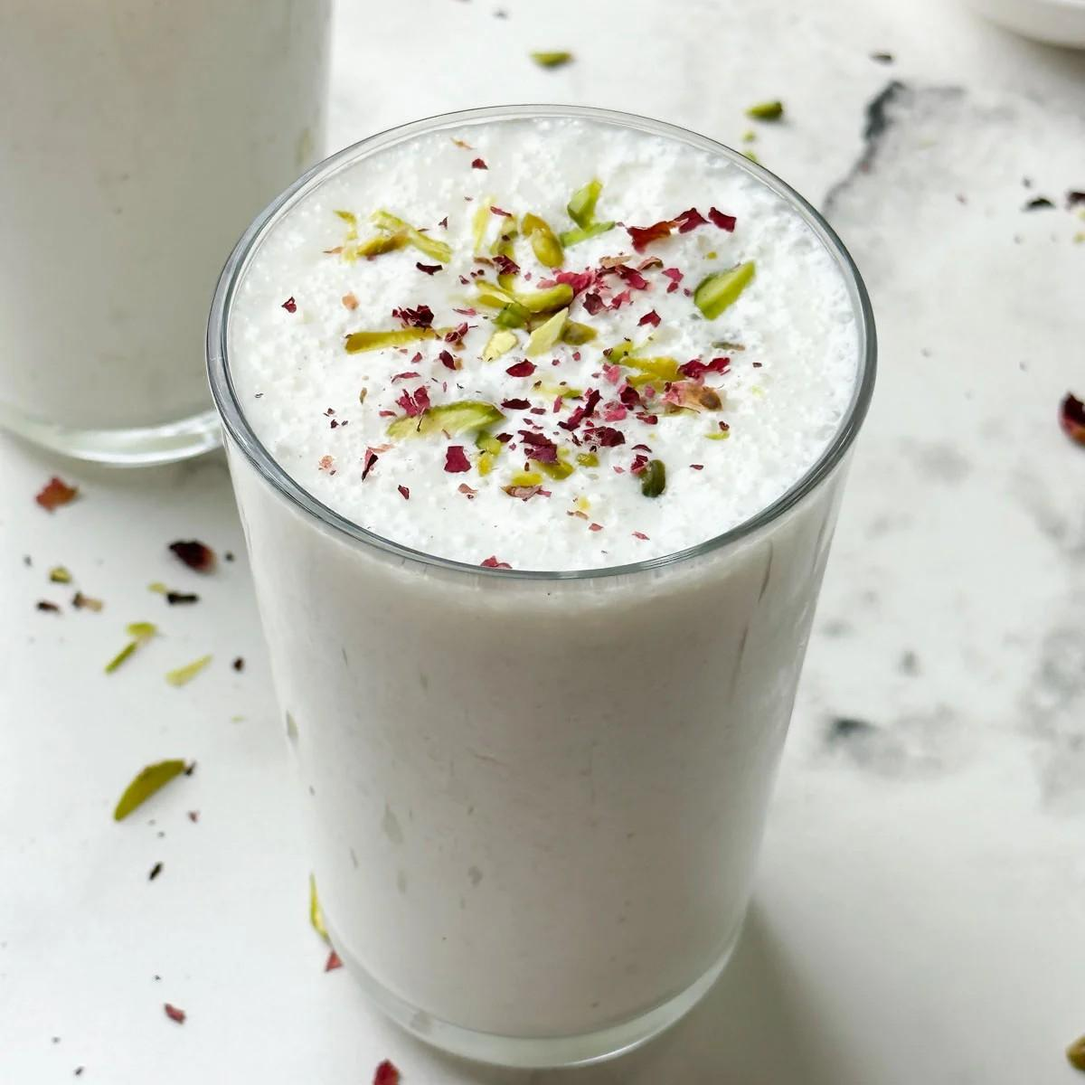Lassi: (222, 116, 856, 1040)
